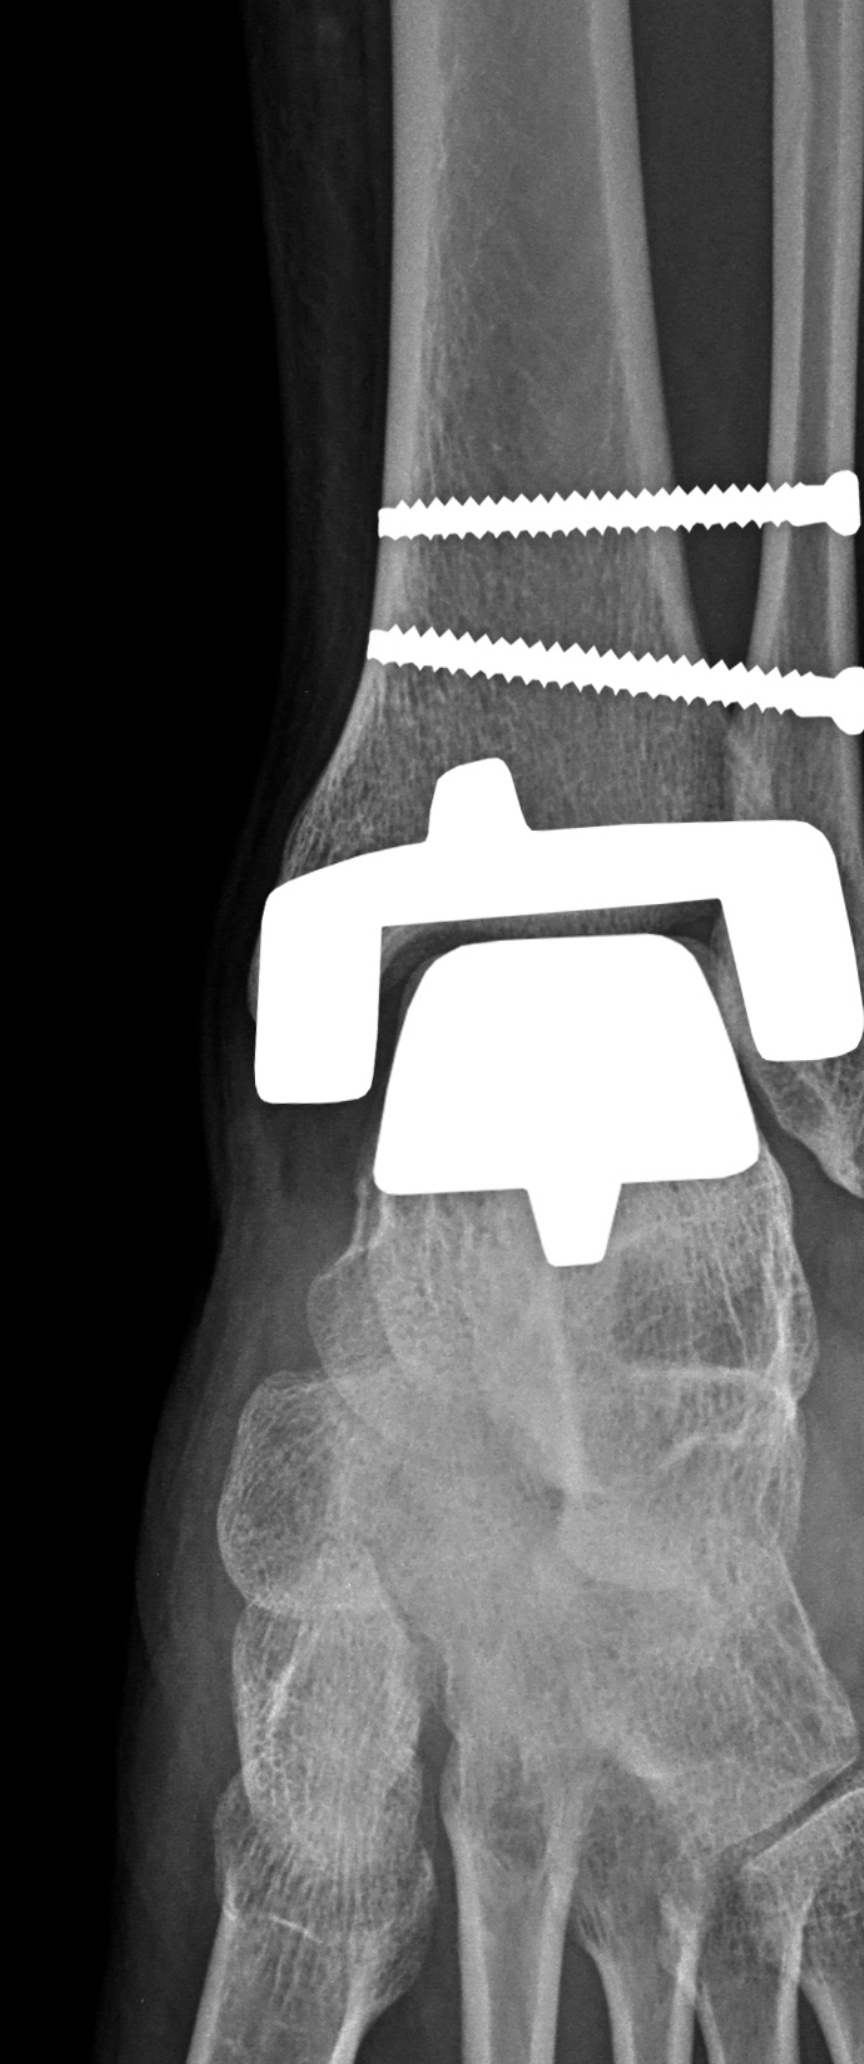Agility-Depuy: (217, 450, 864, 1277)
